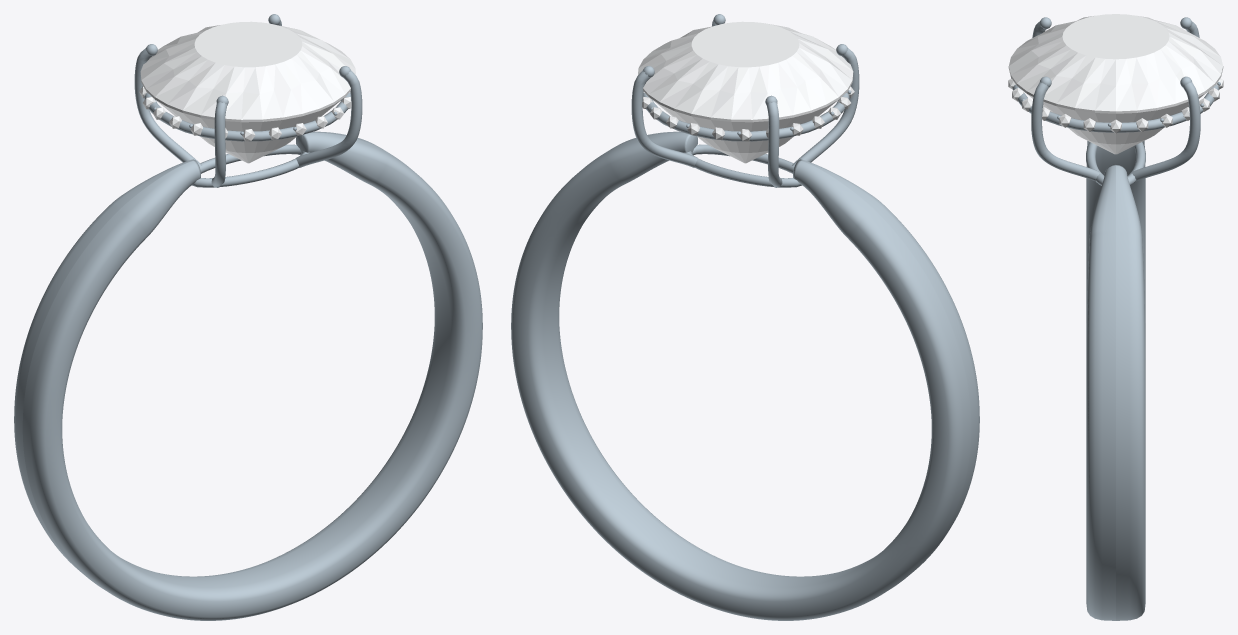
File: lumen-visual-v2-round.glb
3 views of the same model, side by side, from view 1: azimuth 30°, elevation 25°; view 2: azimuth 150°, elevation 25°; view 3: azimuth 270°, elevation 25° (orthographic).
Visible parts, largest first — view 1: Band, CenterStone, BasketBridge, Prong-1, HiddenHaloRail, Prong-3, Prong-2; view 2: Band, CenterStone, BasketBridge, Prong-4, HiddenHaloRail, Prong-2, Prong-3; view 3: Band, CenterStone, Prong-1, Prong-4, HiddenHaloRail, BasketBridge.
Boxes of the visible parts, left/top/right/bottom form: Band: left=14, top=131, right=482, bottom=620; CenterStone: left=140, top=21, right=355, bottom=163; BasketBridge: left=192, top=144, right=309, bottom=187; Prong-1: left=295, top=70, right=362, bottom=167; HiddenHaloRail: left=144, top=93, right=350, bottom=141; Prong-3: left=134, top=48, right=201, bottom=166; Prong-2: left=211, top=102, right=227, bottom=187; Band: left=511, top=131, right=979, bottom=620; CenterStone: left=638, top=21, right=853, bottom=163; BasketBridge: left=684, top=144, right=801, bottom=187; Prong-4: left=631, top=70, right=698, bottom=167; HiddenHaloRail: left=643, top=93, right=849, bottom=141; Prong-2: left=792, top=48, right=859, bottom=166; Prong-3: left=766, top=102, right=782, bottom=187; Band: left=1086, top=141, right=1145, bottom=620; CenterStone: left=1008, top=14, right=1223, bottom=154; Prong-1: left=1031, top=82, right=1101, bottom=181; Prong-4: left=1130, top=82, right=1200, bottom=181; HiddenHaloRail: left=1012, top=84, right=1219, bottom=132; BasketBridge: left=1086, top=142, right=1145, bottom=185.
Bounding box in the file's own units: 19.55 × 23.36 × 8.13.
